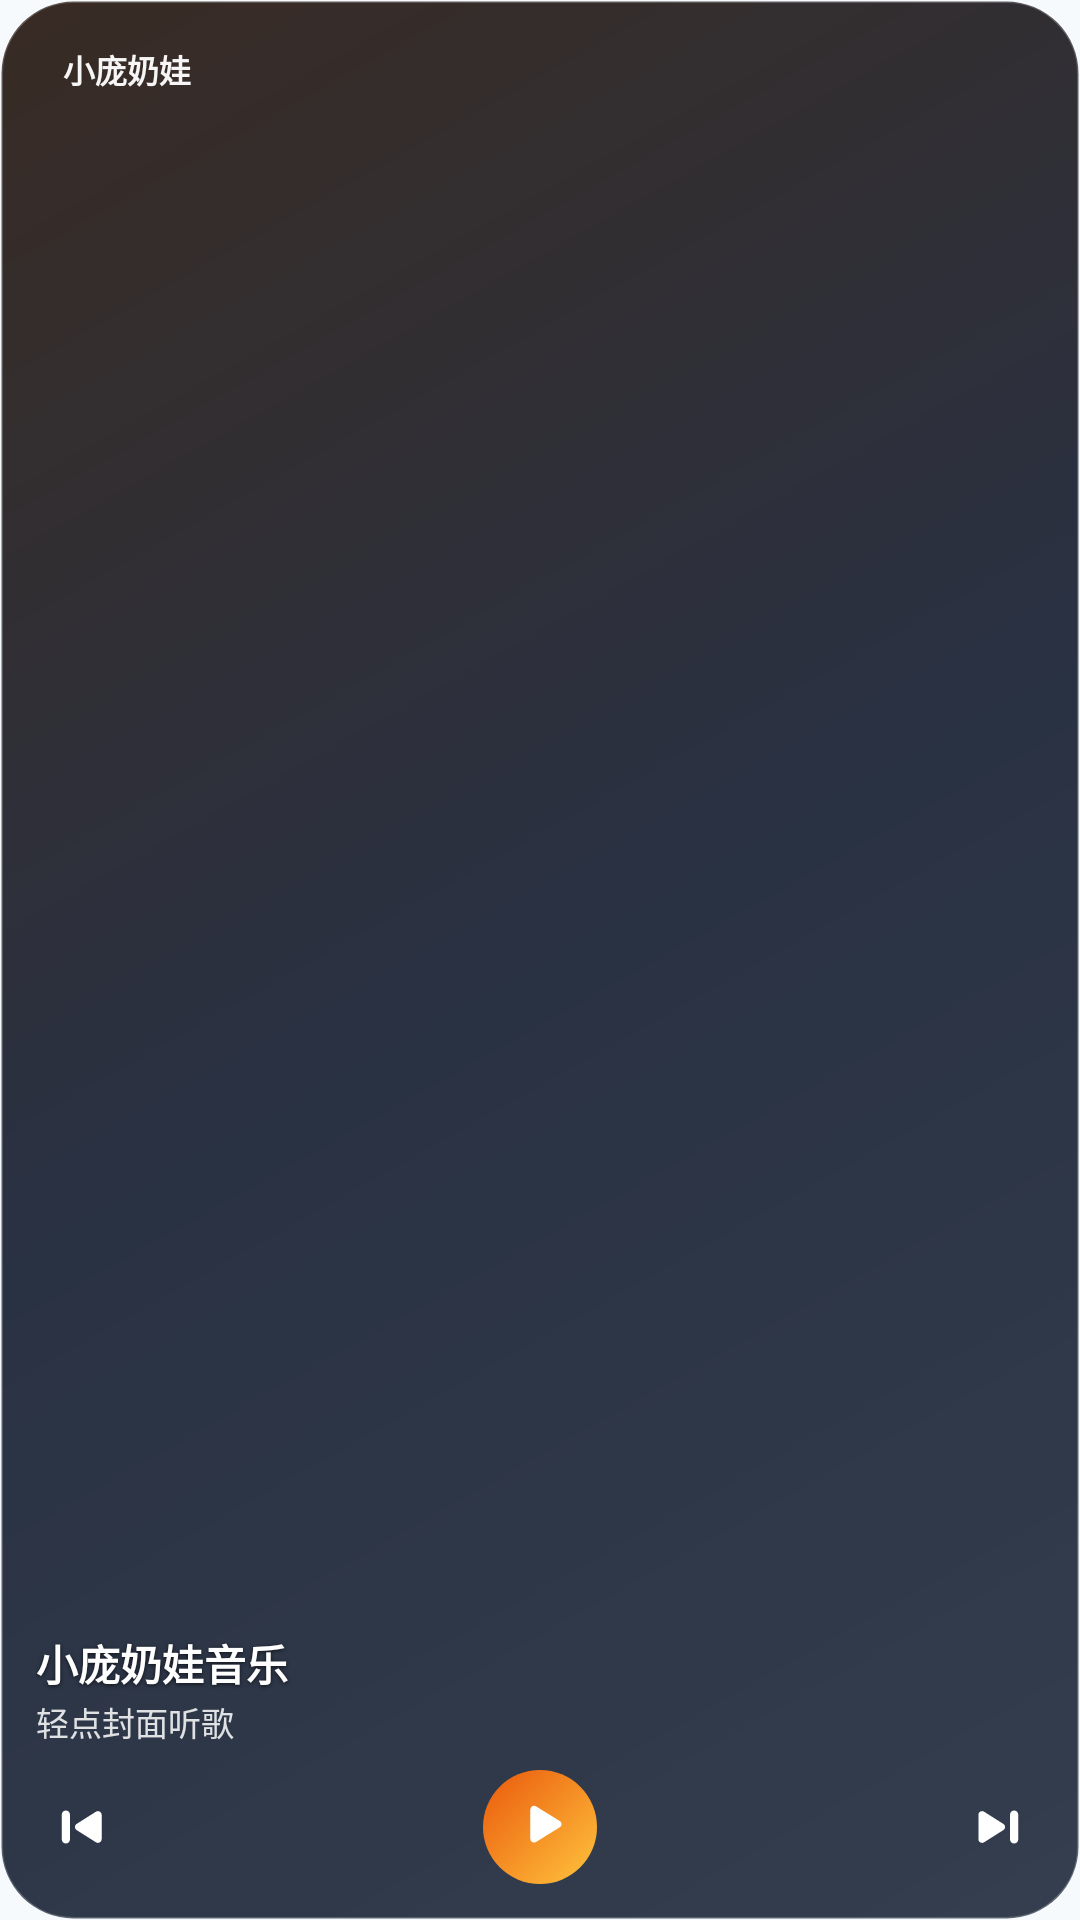

Icon bounding boxes for this 1080×1920 phone screenshot, format bbox=(x1, y1, x2, y2):
上一首: bbox=(61, 1810, 102, 1844)
下一首: bbox=(978, 1810, 1019, 1844)
播放或暂停: bbox=(483, 1770, 597, 1884)
